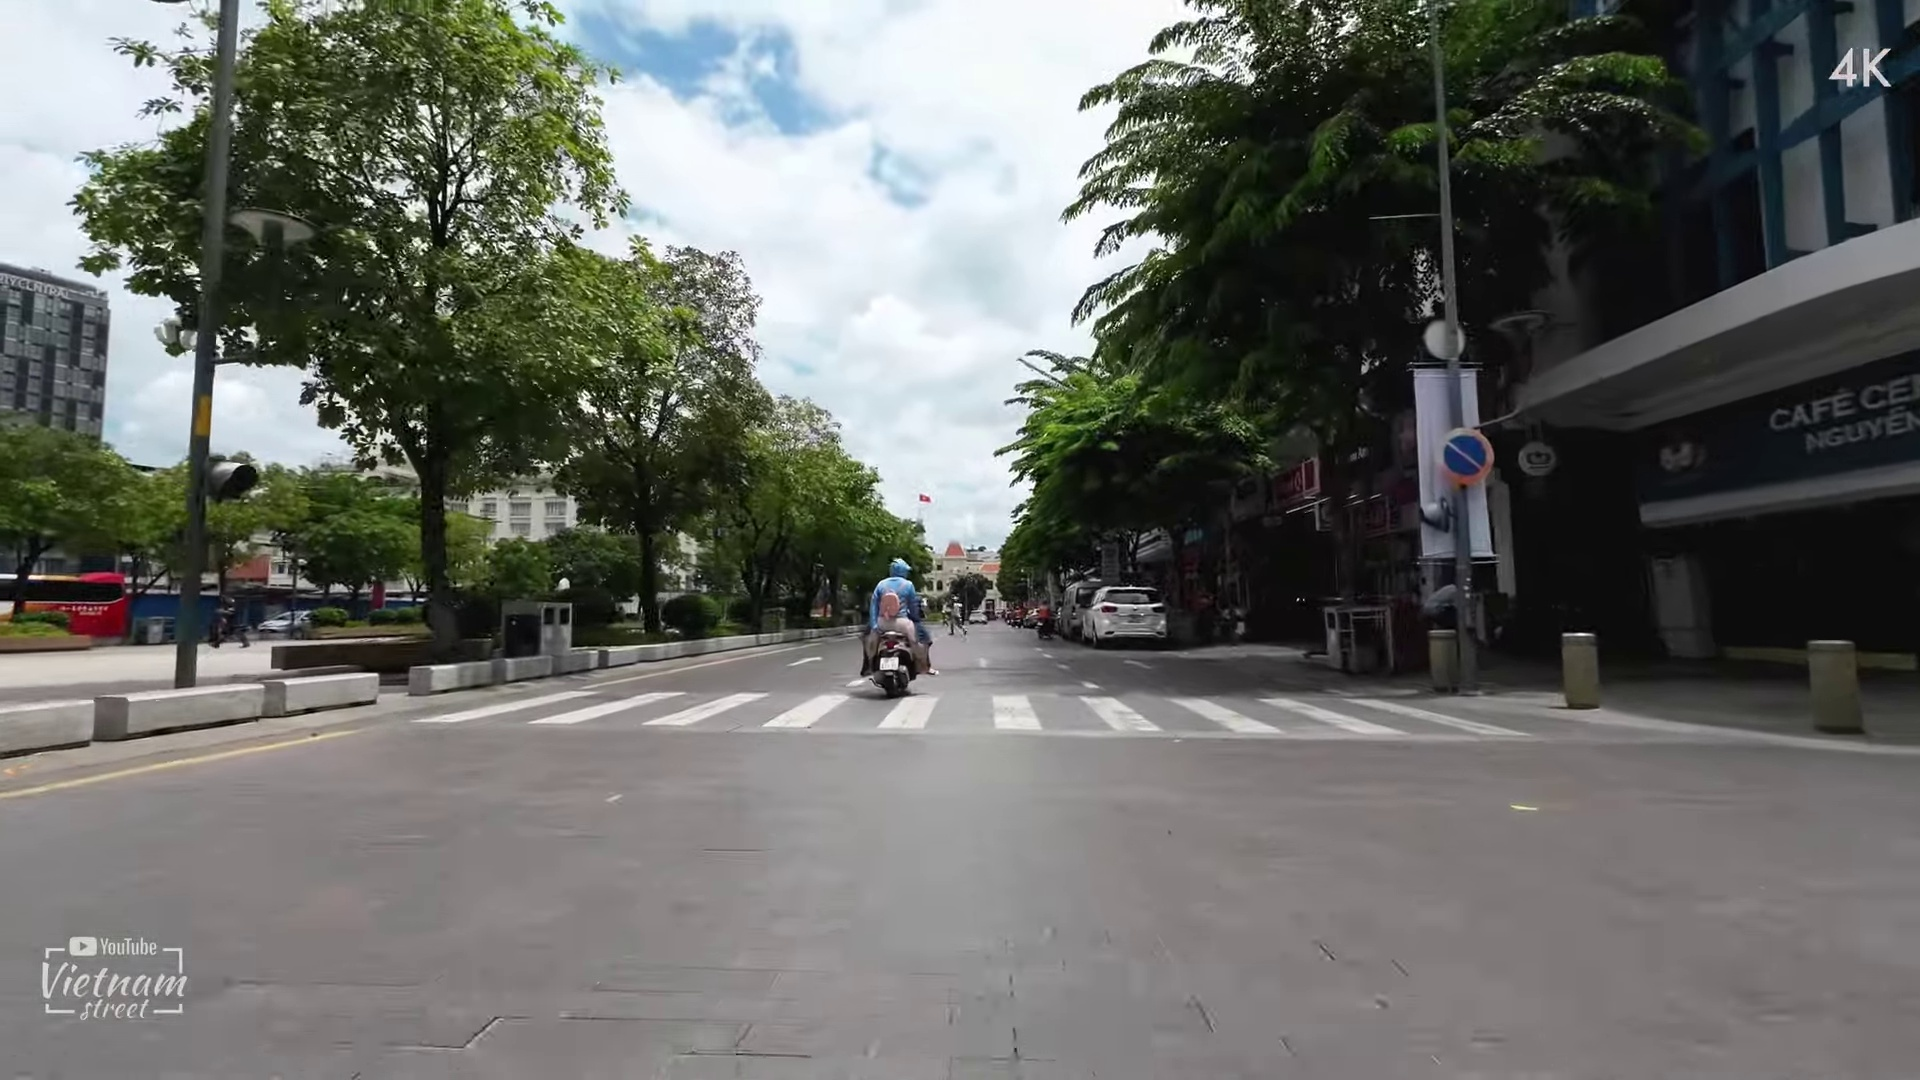cam_do_xe: (1433, 426, 1497, 487)
